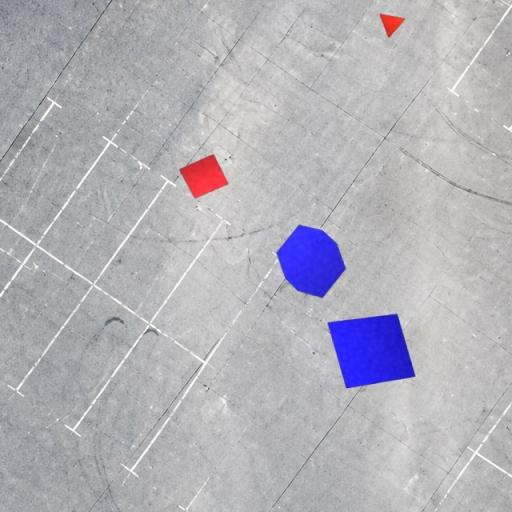BLUE_SQUARE: (326, 312, 417, 390)
RED_SQUARE: (178, 154, 229, 199)
